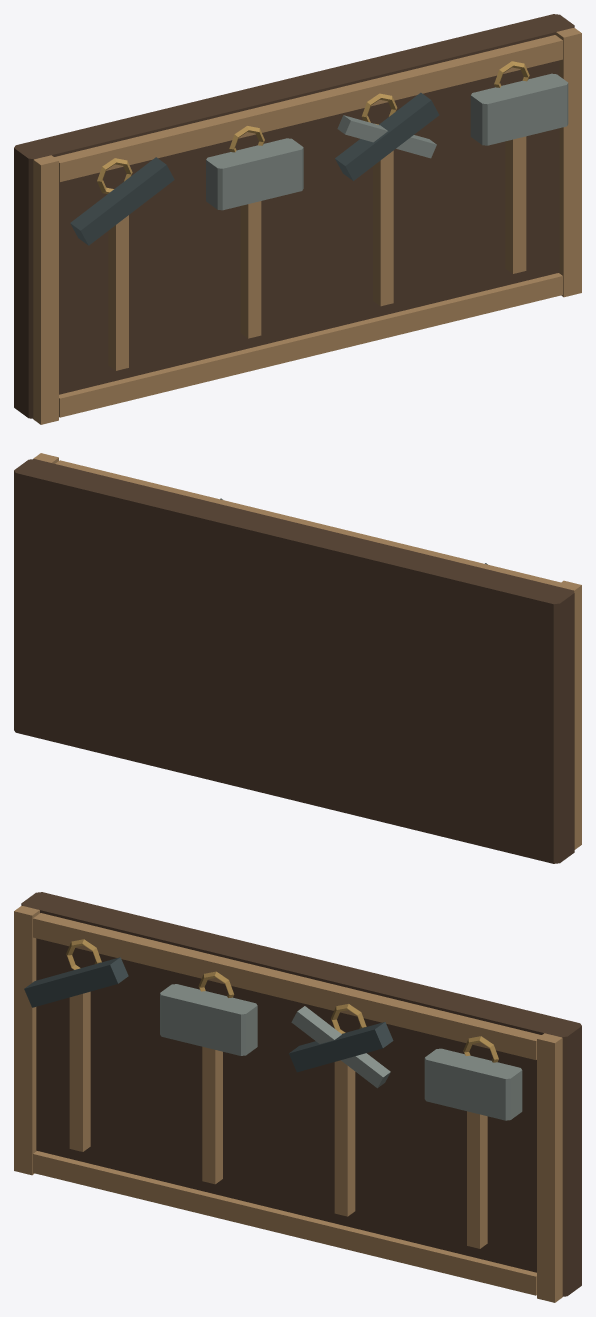
The model's file is rack_tools_wall.glb.
3 views of the same model, one above another, from view 1: azimuth 30°, elevation 25°; view 2: azimuth 150°, elevation 25°; view 3: azimuth 330°, elevation 25° (orthographic).
Visible parts, largest first — view 1: geometry; view 2: geometry; view 3: geometry.
Boxes of the visible parts, x1,y1,x2,y2 form: geometry: (14,14,581,424); geometry: (14,453,581,863); geometry: (14,892,581,1302).
Size of the model in its own units: 1.65 by 0.75 by 0.23.
